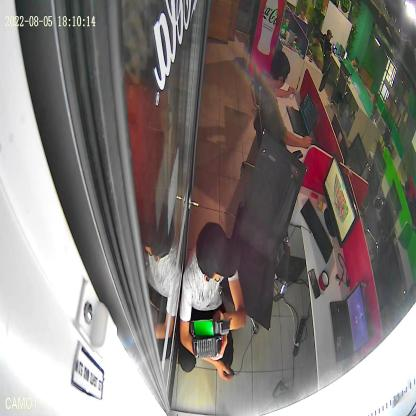red: (188, 318, 232, 338)
undefined: (191, 334, 224, 358)
